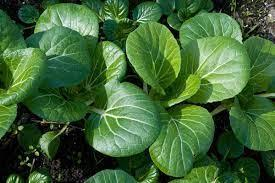Healthy-Pechay: (0, 7, 270, 178)
